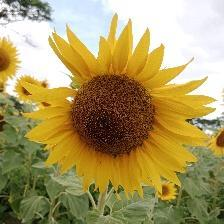sunflower: (40, 41, 212, 197)
